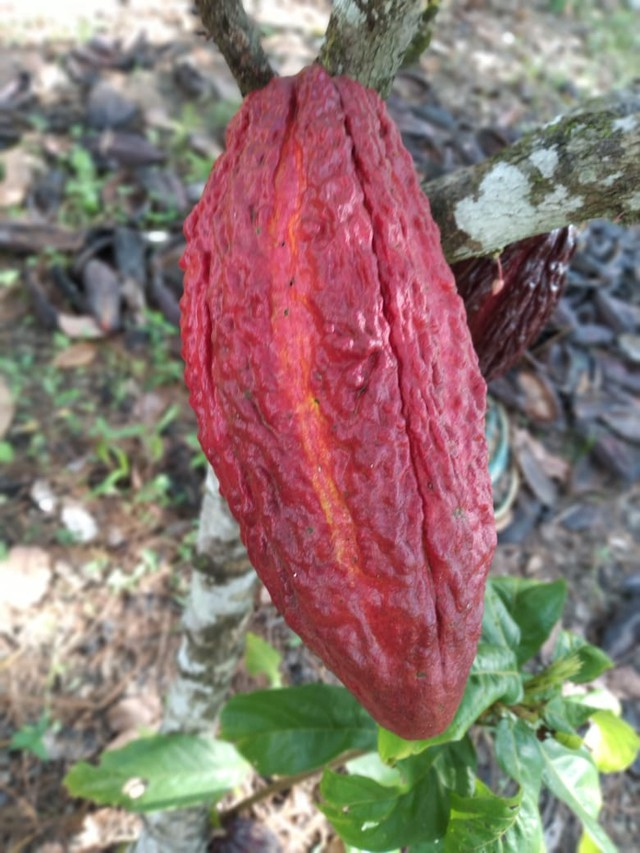Health: (175, 63, 497, 750)
